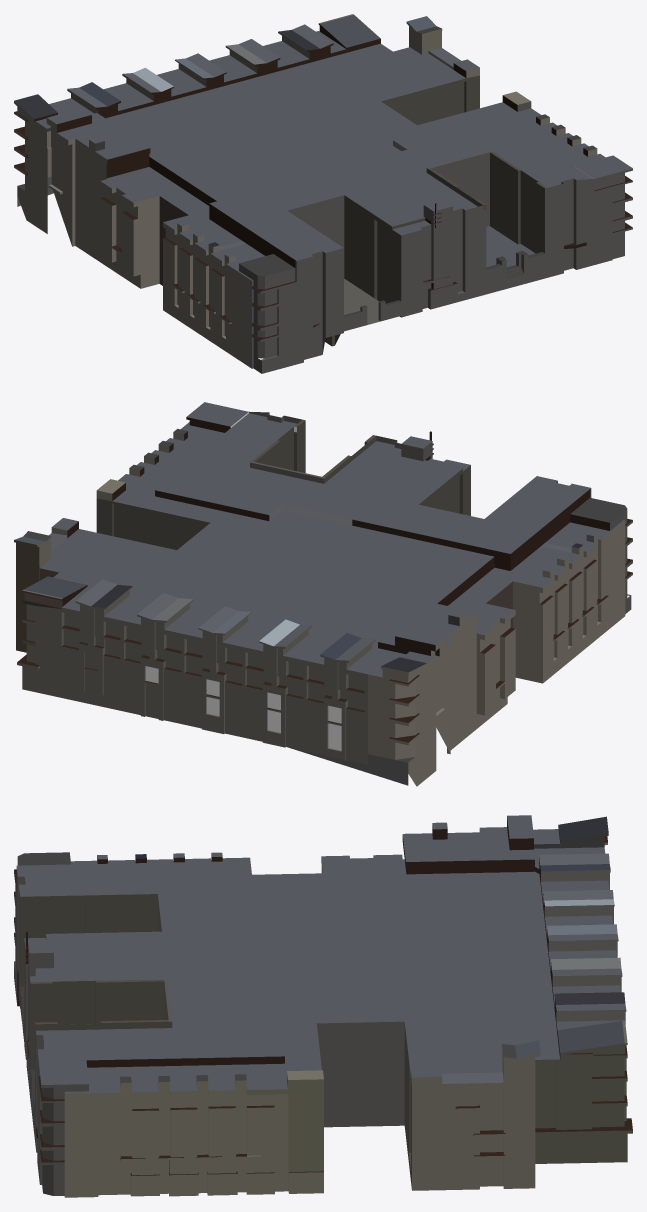
File: museum-bluffs-south.glb
3 views of the same model, one above another, from view 1: azimuth 30°, elevation 25°; view 2: azimuth 150°, elevation 25°; view 3: azimuth 270°, elevation 25° (orthographic). The views are drawn at different scales.
Parts seen in each view (by area): view 1: LOD0; view 2: LOD0; view 3: LOD0.
Boxes of the visible parts, x1,y1,x2,y2 form: LOD0: (14,14,632,373); LOD0: (14,402,632,786); LOD0: (14,815,632,1197).
Size of what is drawn, in the model's own units: 81.74 by 23.81 by 82.93.
Materials: 2 (2 with a texture image).
